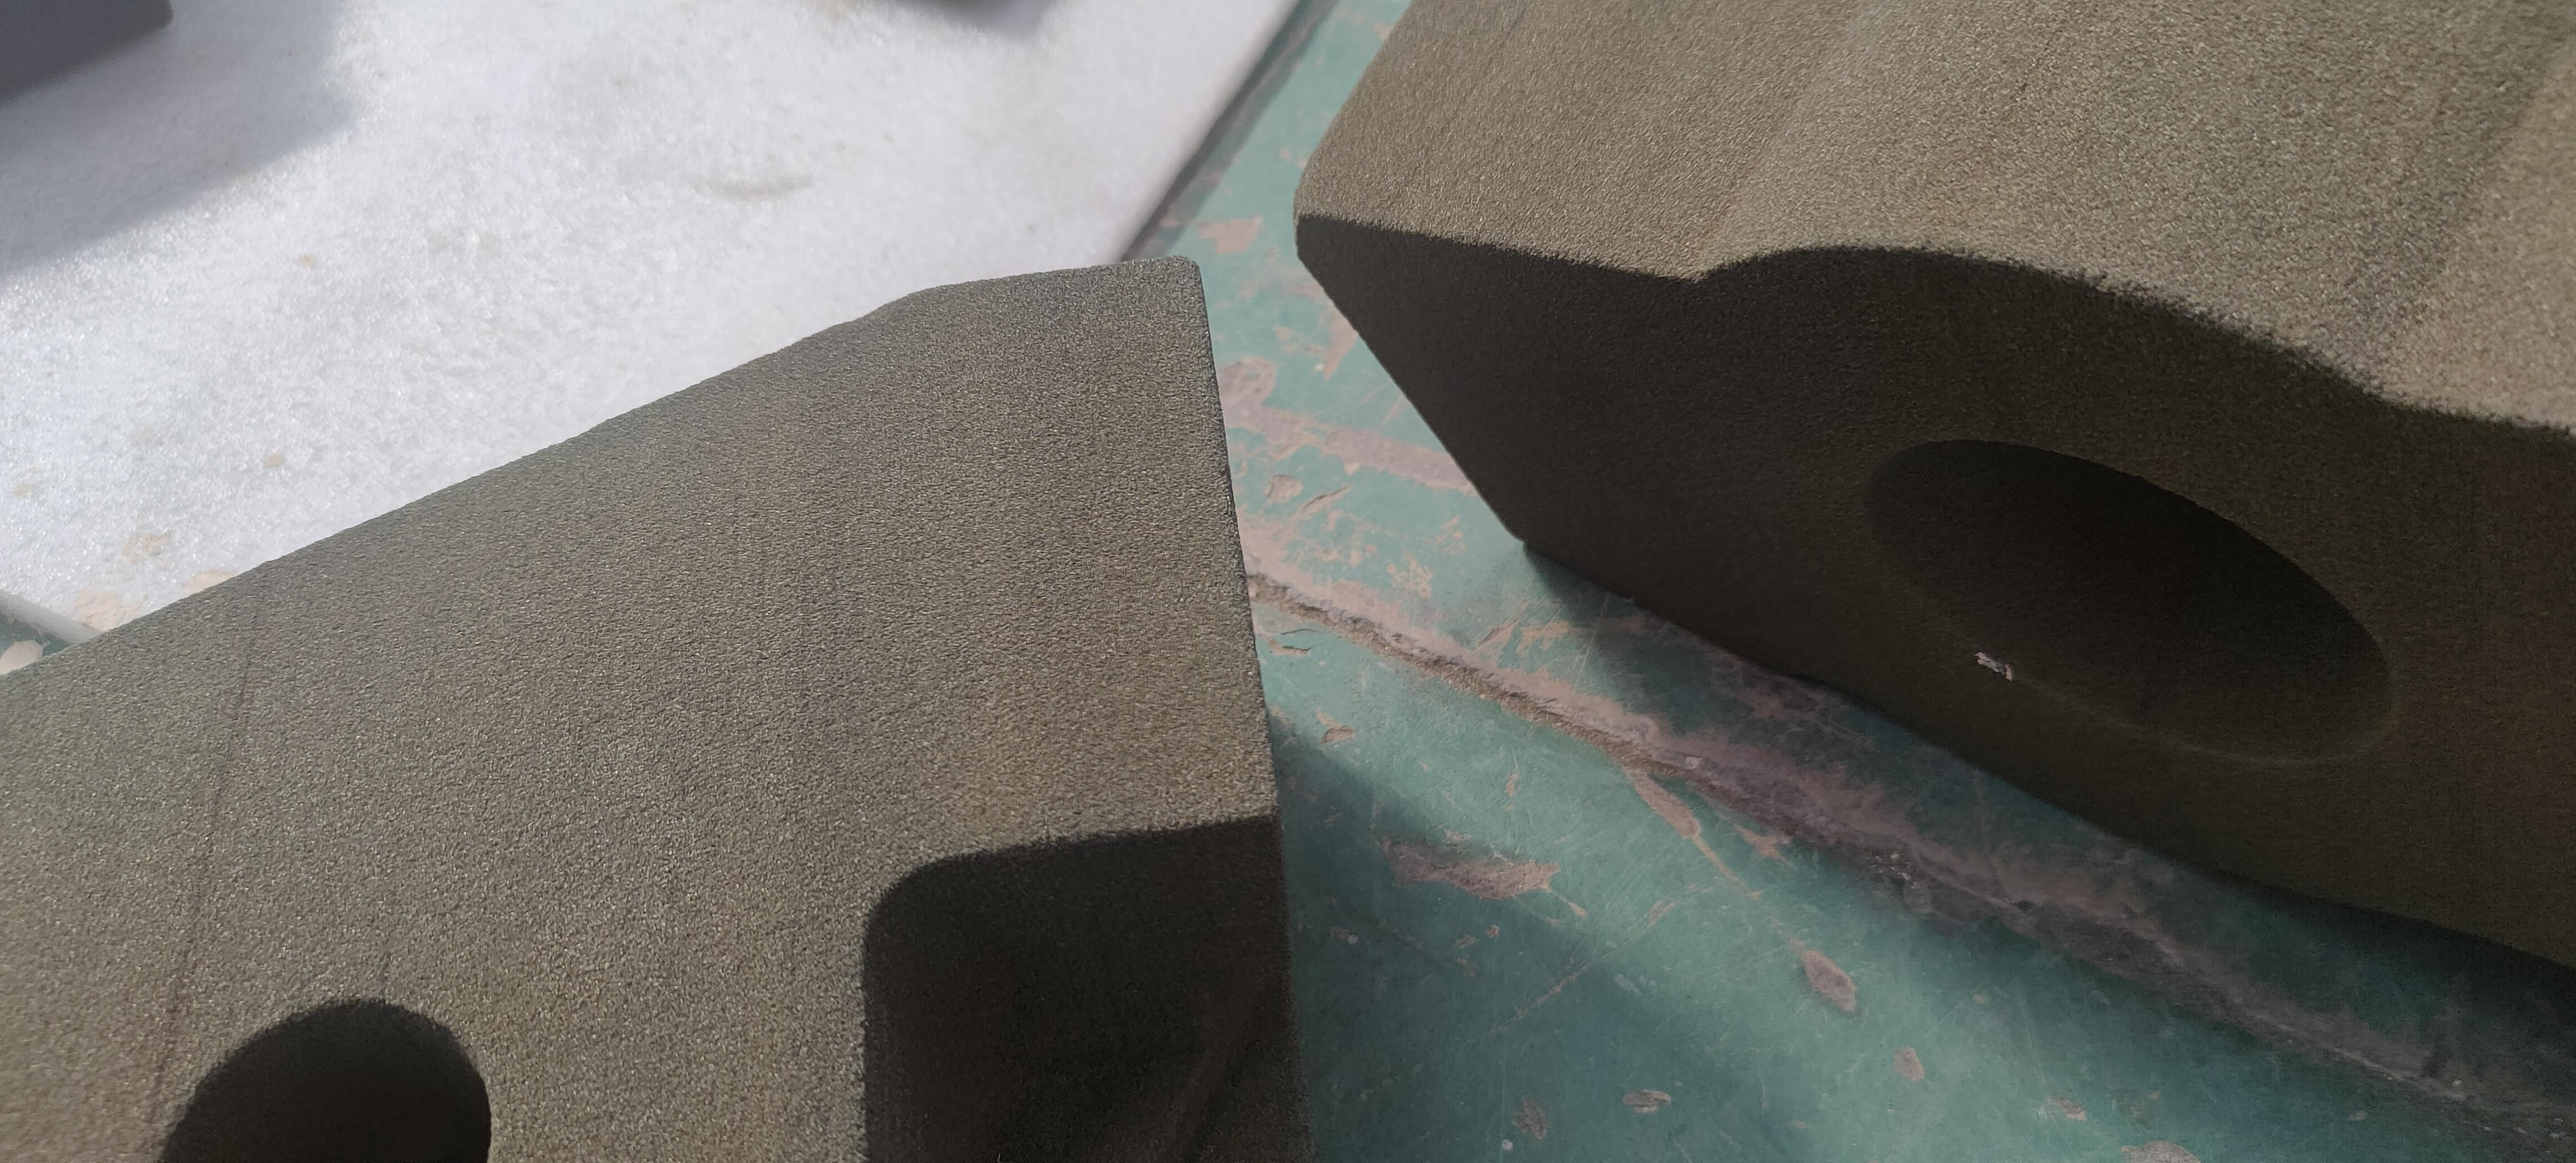pouring hole: (1855, 434, 2400, 769), (146, 1000, 488, 1163)
